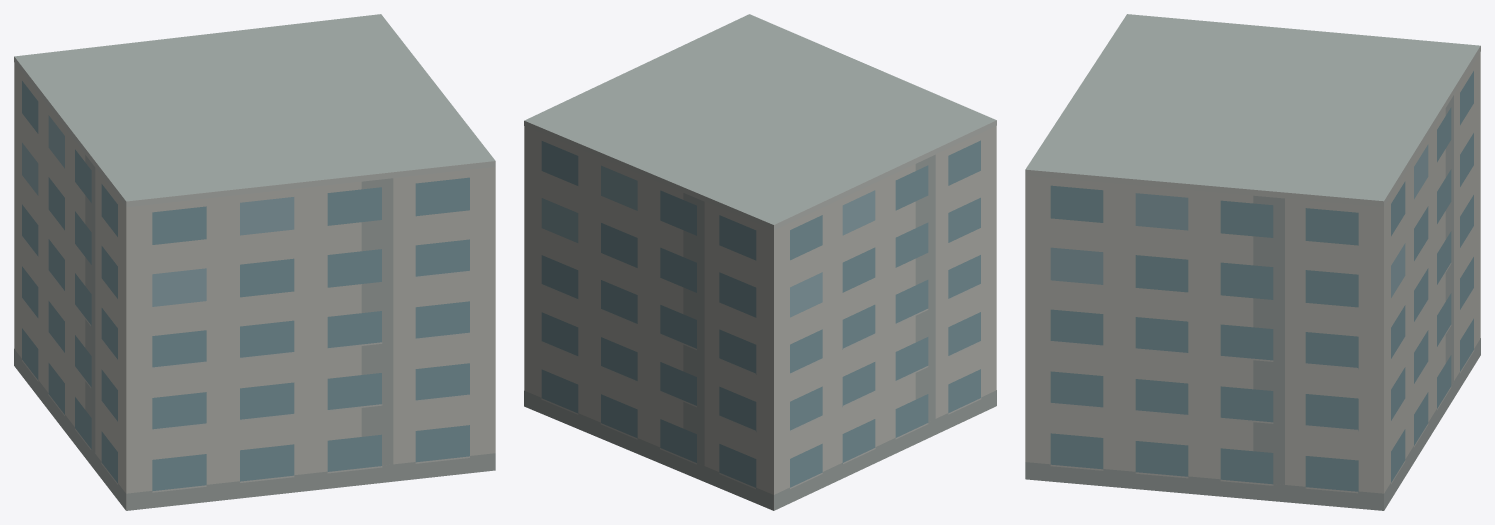
Rendered from survey-upis-33031476.glb.
The picture shows the model from 3 angles, left to right: view 1: azimuth 30°, elevation 25°; view 2: azimuth 150°, elevation 25°; view 3: azimuth 270°, elevation 25°; orthographic projection. The views are drawn at different scales.
Parts seen in each view (by area): view 1: survey-upis-33031476.tmp; view 2: survey-upis-33031476.tmp; view 3: survey-upis-33031476.tmp.
Boxes of the visible parts, x1,y1,x2,y2 form: survey-upis-33031476.tmp: (14, 14, 495, 510); survey-upis-33031476.tmp: (524, 14, 996, 510); survey-upis-33031476.tmp: (1025, 14, 1480, 510).
Size of the model in its own units: 16.35 by 12.6 by 16.81.
